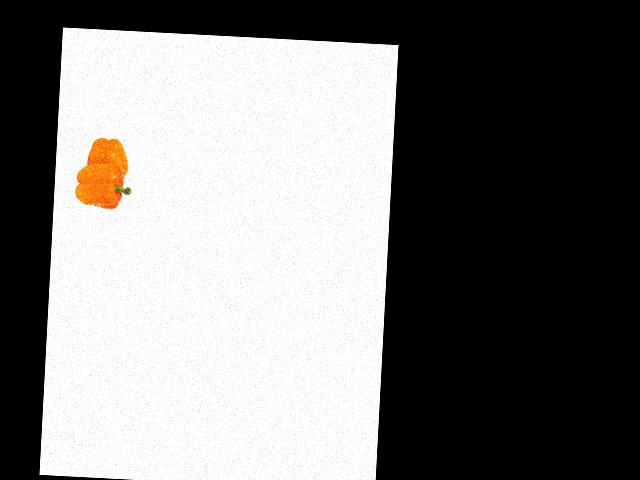bell_pepper: (81, 133, 131, 180)
